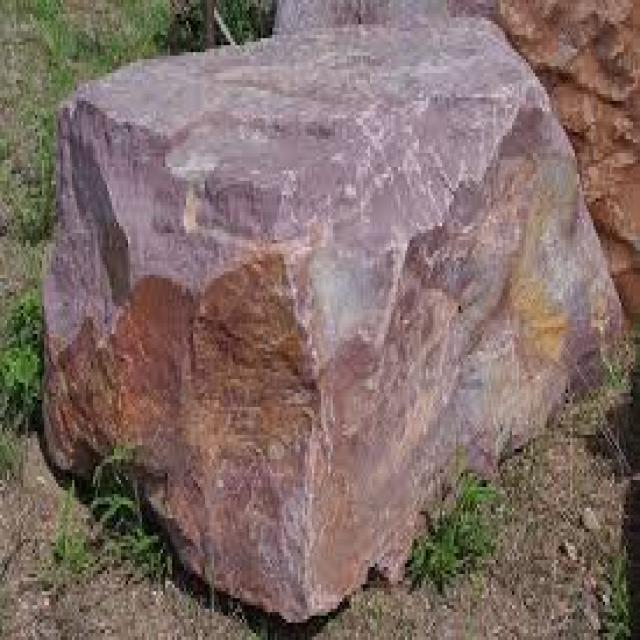Metamorphic: (35, 14, 626, 612)
